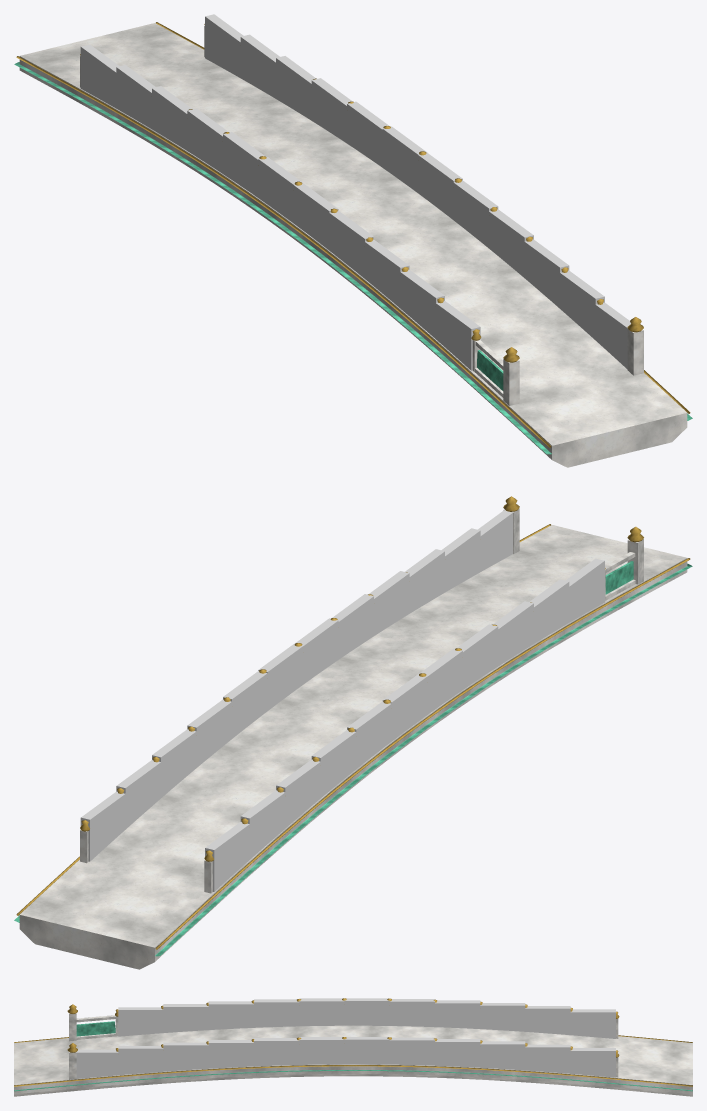
Rendered from jade_bridge.glb.
3 views of the same model, one above another, from view 1: azimuth 30°, elevation 25°; view 2: azimuth 150°, elevation 25°; view 3: azimuth 270°, elevation 25° (orthographic). The views are drawn at different scales.
Visible parts, largest first — view 1: BridgeDeck, BridgeJade, BridgeGold, BridgeBalustrade, BridgeRail-convcolonly.002, BridgeRail-convcolonly.003, BridgeRail-convcolonly.005, BridgeRail-convcolonly.004, BridgeRail-convcolonly.006, BridgeRail-convcolonly.007, BridgeRail-convcolonly.022, BridgeRail-convcolonly.009 (+15 smaller); view 2: BridgeDeck, BridgeGold, BridgeJade, BridgeBalustrade, BridgeRail-convcolonly.023, BridgeRail-convcolonly.022, BridgeRail-convcolonly.020, BridgeRail-convcolonly.016, BridgeRail-convcolonly.021, BridgeRail-convcolonly.012, BridgeRail-convcolonly.018, BridgeRail-convcolonly.019 (+15 smaller); view 3: BridgeDeck, BridgeGold, BridgeJade, BridgeRail-convcolonly.005, BridgeRail-convcolonly.016, BridgeRail-convcolonly.021, BridgeRail-convcolonly.019, BridgeRail-convcolonly.015, BridgeRail-convcolonly.022, BridgeRail-convcolonly.008, BridgeRail-convcolonly.006, BridgeRail-convcolonly.002 (+15 smaller).
Part boxes in pixels (x1,y1,x2,y2): BridgeDeck: (19, 23, 687, 467); BridgeJade: (14, 62, 692, 454); BridgeGold: (16, 22, 690, 447); BridgeBalustrade: (80, 25, 643, 405); BridgeRail-convcolonly.002: (436, 301, 480, 370); BridgeRail-convcolonly.003: (560, 270, 604, 340); BridgeRail-convcolonly.005: (524, 239, 569, 308); BridgeRail-convcolonly.004: (400, 270, 444, 338); BridgeRail-convcolonly.006: (365, 239, 409, 307); BridgeRail-convcolonly.007: (489, 209, 533, 277); BridgeRail-convcolonly.022: (80, 44, 119, 108); BridgeRail-convcolonly.009: (453, 180, 498, 248); BridgeDeck: (19, 525, 687, 969); BridgeGold: (16, 496, 690, 949); BridgeJade: (14, 561, 692, 956); BridgeBalustrade: (80, 508, 643, 893); BridgeRail-convcolonly.023: (80, 791, 125, 861); BridgeRail-convcolonly.022: (205, 822, 249, 891); BridgeRail-convcolonly.020: (240, 790, 285, 859); BridgeRail-convcolonly.016: (311, 730, 356, 798); BridgeRail-convcolonly.021: (116, 760, 160, 829); BridgeRail-convcolonly.012: (382, 674, 427, 741); BridgeRail-convcolonly.018: (276, 759, 320, 828); BridgeRail-convcolonly.019: (152, 729, 196, 797); BridgeDeck: (14, 1025, 692, 1096); BridgeGold: (14, 998, 692, 1086); BridgeJade: (14, 1021, 692, 1091); BridgeRail-convcolonly.005: (163, 1042, 208, 1071); BridgeRail-convcolonly.016: (435, 1000, 480, 1028); BridgeRail-convcolonly.021: (525, 1044, 570, 1073); BridgeRail-convcolonly.019: (480, 1041, 525, 1070); BridgeRail-convcolonly.015: (389, 1037, 434, 1065); BridgeRail-convcolonly.022: (570, 1009, 615, 1038); BridgeRail-convcolonly.008: (254, 999, 299, 1027); BridgeRail-convcolonly.006: (208, 1001, 253, 1029); BridgeRail-convcolonly.002: (118, 1007, 163, 1036).
Size of what is drawn, in the model's own units: 4.76 by 3.06 by 30.01.
3 materials, 3 textured.
